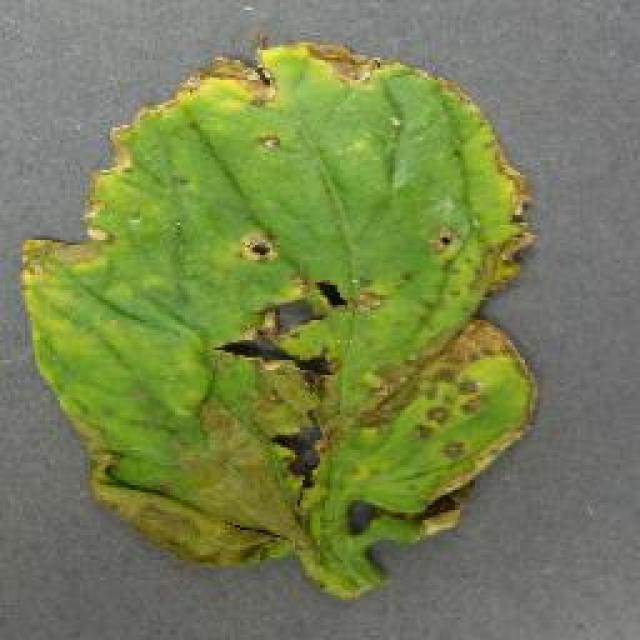bacterial spot: (19, 35, 542, 602)
